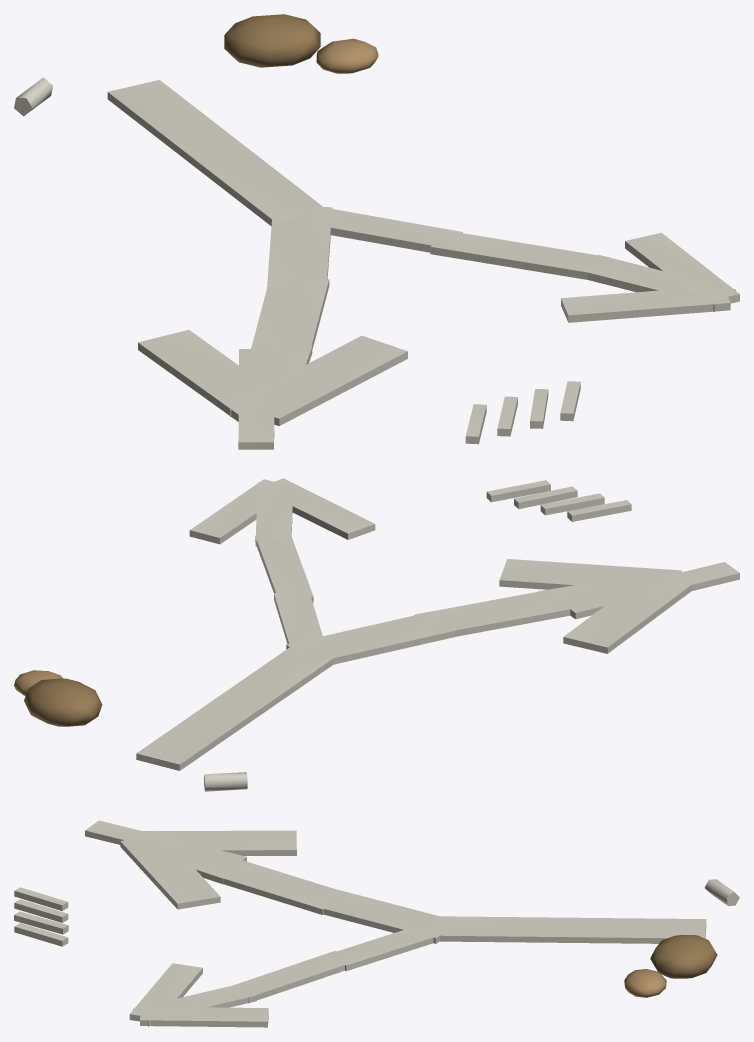
Rendered from chalk_turn_b_lod2.glb.
3 views of the same model, one above another, from view 1: azimuth 30°, elevation 25°; view 2: azimuth 150°, elevation 25°; view 3: azimuth 270°, elevation 25° (orthographic). The views are drawn at different scales.
Visible parts, largest first — view 1: Surface.001; view 2: Surface.001; view 3: Surface.001.
Boxes of the visible parts, x1,y1,x2,y2 form: Surface.001: [14, 14, 739, 449]; Surface.001: [14, 478, 739, 791]; Surface.001: [14, 820, 739, 1027].
Size of the model in its own units: 3.73 by 0.3596 by 5.68.
